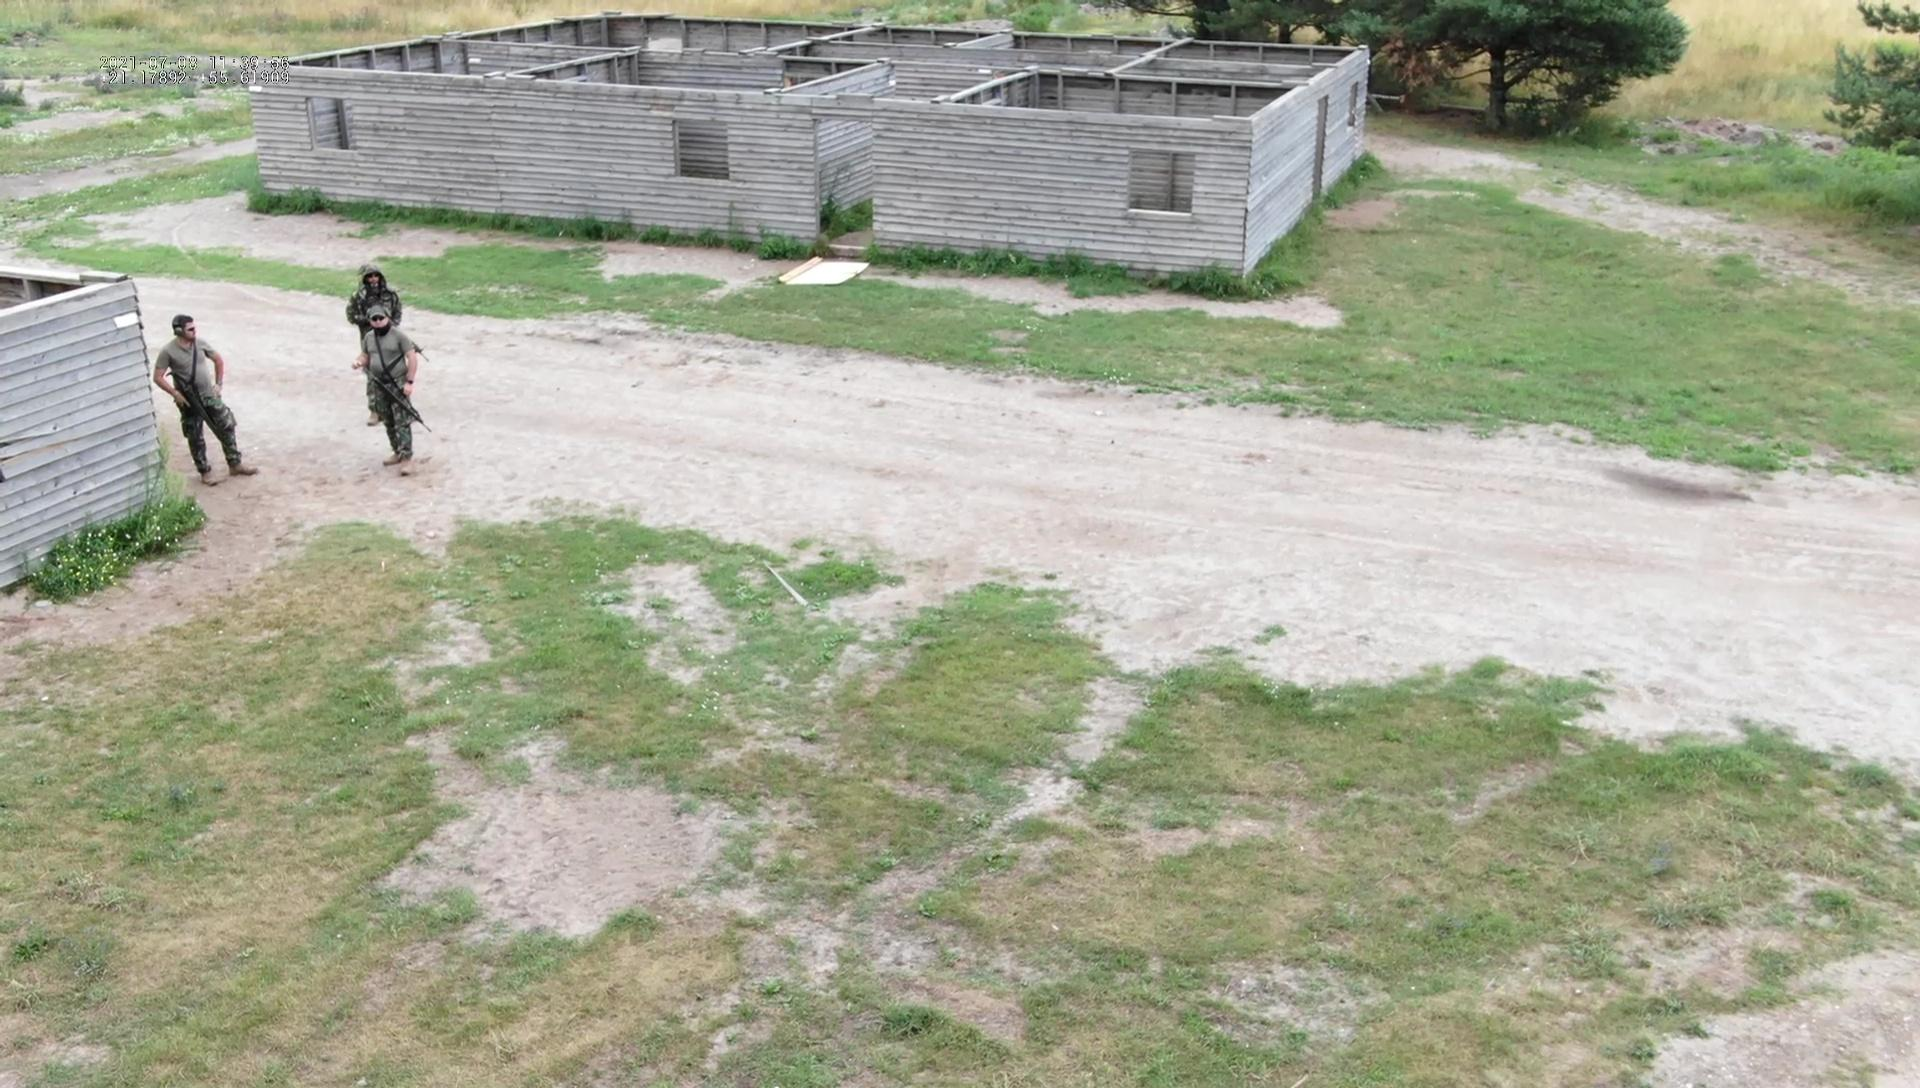Soldier: (146, 313, 261, 481), (348, 305, 434, 469), (345, 260, 406, 320)
